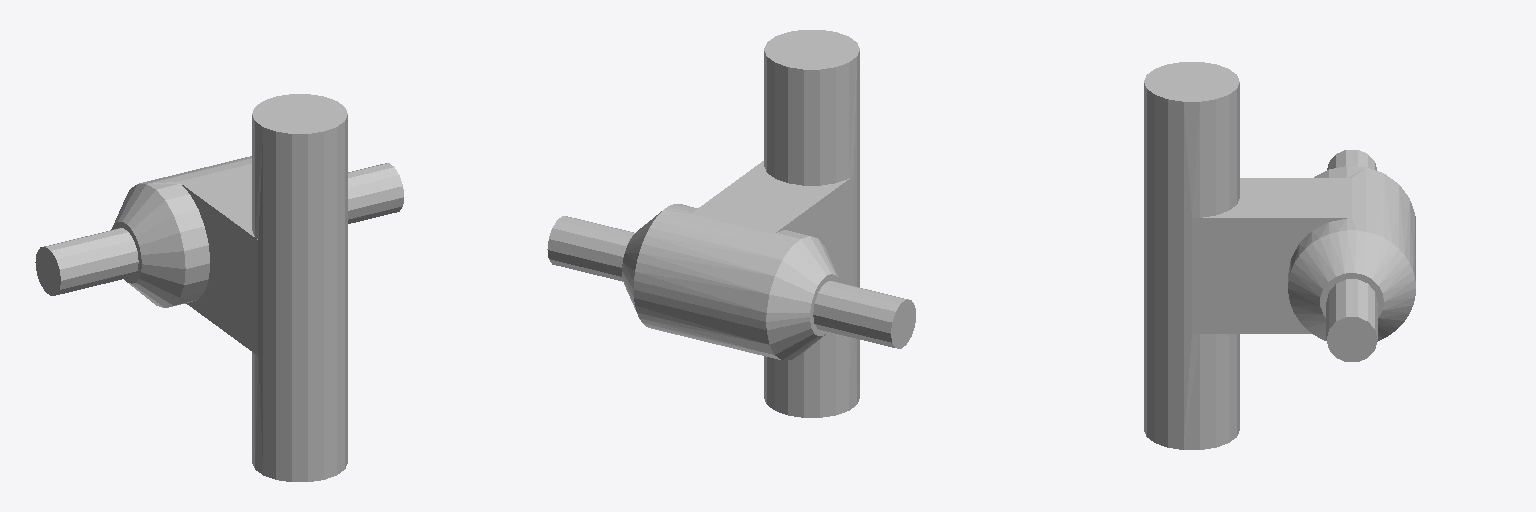
The picture shows the model from 3 angles: view 1: azimuth 30°, elevation 25°; view 2: azimuth 150°, elevation 25°; view 3: azimuth 270°, elevation 25°; orthographic projection.
Parts seen in each view (by area): view 1: leg_l5_link; view 2: leg_l5_link; view 3: leg_l5_link.
Part boxes in pixels (x1,y1,x2,y2): leg_l5_link: (35,94,403,481); leg_l5_link: (547,30,915,417); leg_l5_link: (1144,62,1415,449).
Bounding box in the file's own units: 0.0619 × 0.06 × 0.0425.